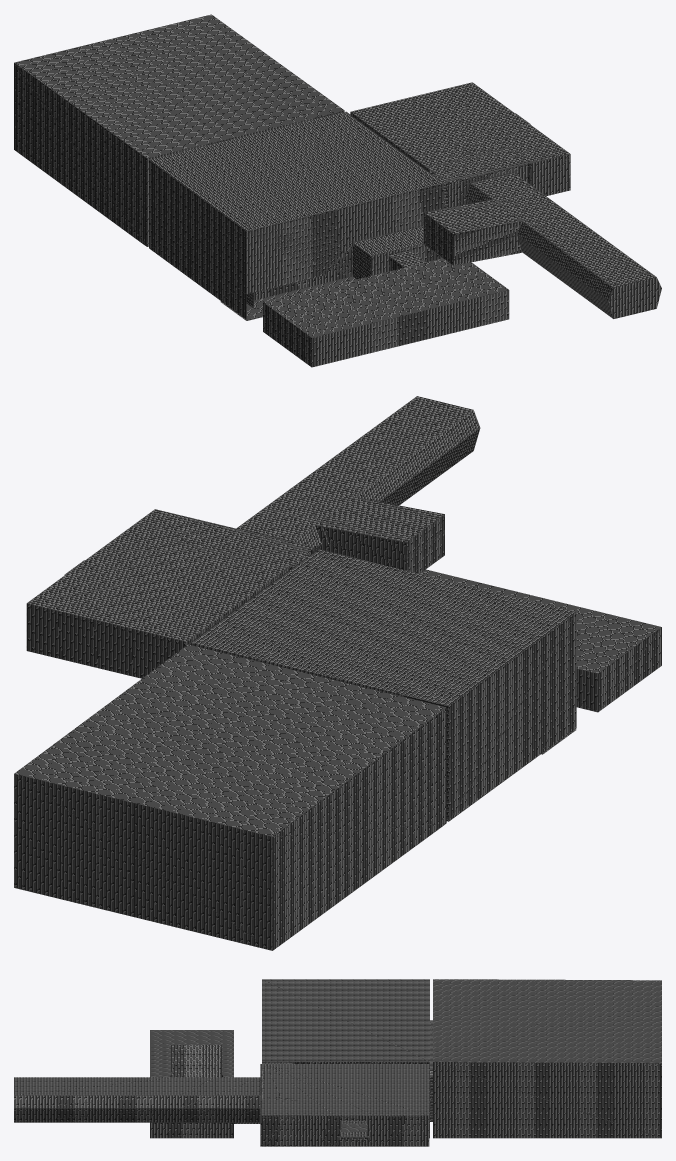
File: Level1.fbx
3 renders of one model, top to bottom at view 1: azimuth 30°, elevation 25°; view 2: azimuth 150°, elevation 25°; view 3: azimuth 270°, elevation 25°, orthographic. The views are drawn at different scales.
Parts seen in each view (by area): view 1: Plane.001; view 2: Plane.001; view 3: Plane.001.
Part boxes in pixels (<box>): Plane.001: <box>14,14,661,367</box>; Plane.001: <box>14,396,661,950</box>; Plane.001: <box>14,979,661,1146</box>.
Bounding box in the file's own units: 1181 × 304 × 2313.
